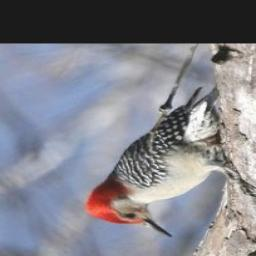Woodpecker: (78, 80, 256, 242)
